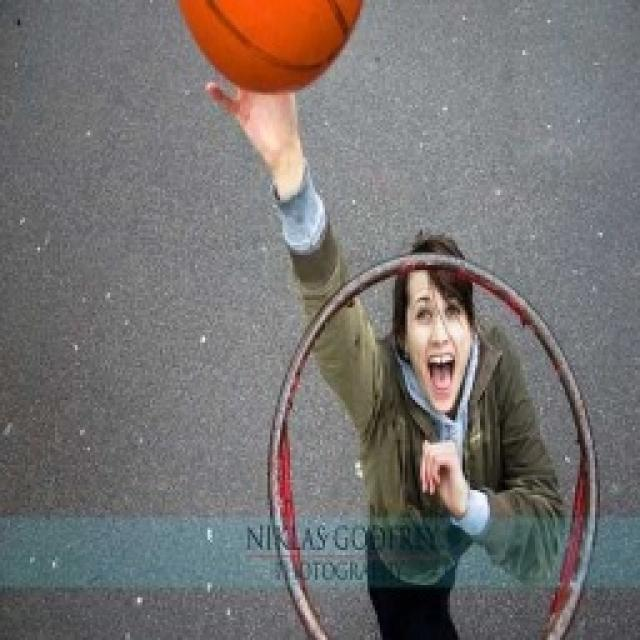rim: (172, 0, 370, 98)
